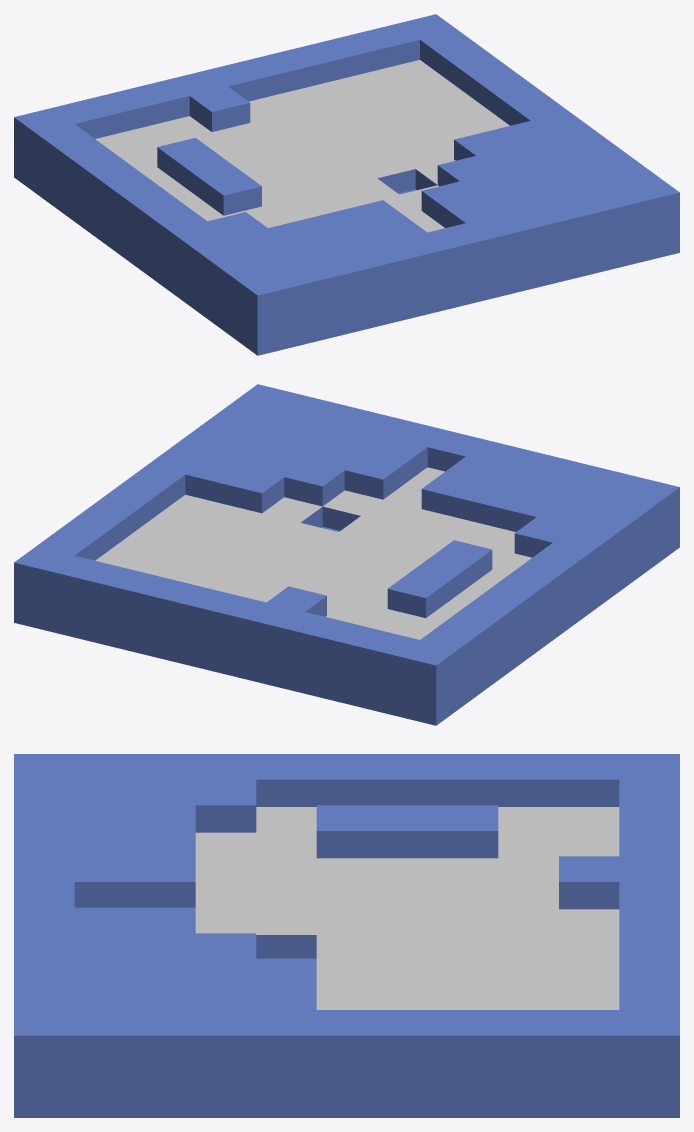
File: 013_platform.fbx
3 renders of one model, top to bottom at view 1: azimuth 30°, elevation 25°; view 2: azimuth 150°, elevation 25°; view 3: azimuth 270°, elevation 25°, orthographic. The views are drawn at different scales.
Visible parts, largest first — view 1: Cube; view 2: Cube; view 3: Cube.
Part boxes in pixels (x1,y1,x2,y2): Cube: (14,14,679,355); Cube: (14,384,679,725); Cube: (14,754,679,1117).
Size of the model in its own units: 1100 by 150 by 1100.
